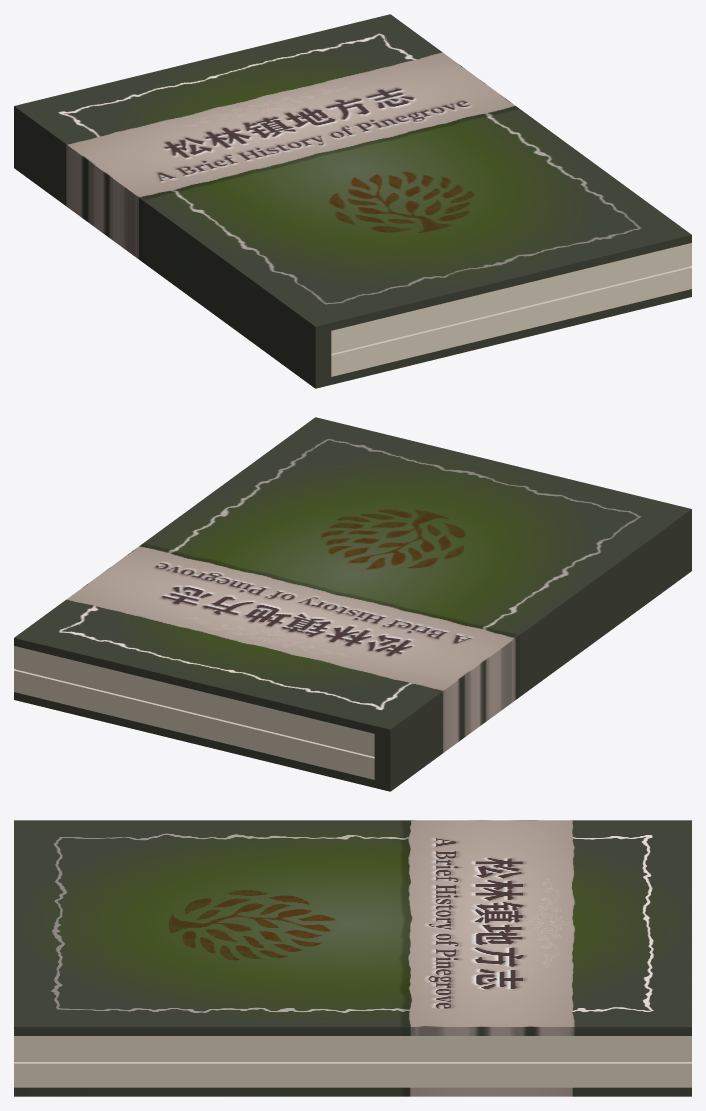
File: book.fbx
The picture shows the model from 3 angles, top to bottom: view 1: azimuth 30°, elevation 25°; view 2: azimuth 150°, elevation 25°; view 3: azimuth 270°, elevation 25°; orthographic projection. The views are drawn at different scales.
Visible parts, largest first — view 1: 平面.004; view 2: 平面.004; view 3: 平面.004.
Part boxes in pixels (<box>): 平面.004: <box>14,14,691,388</box>; 平面.004: <box>14,417,691,791</box>; 平面.004: <box>14,820,691,1096</box>.
Bounding box in the file's own units: 144 × 22.71 × 200.
Materials: 2 (1 with a texture image).
